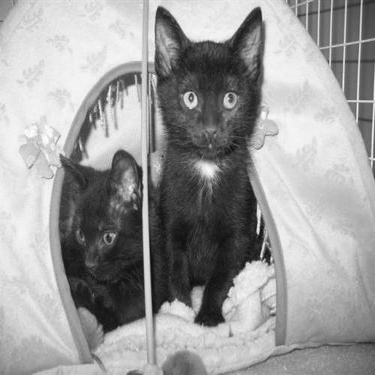cat: (137, 6, 275, 334), (28, 133, 160, 333)
